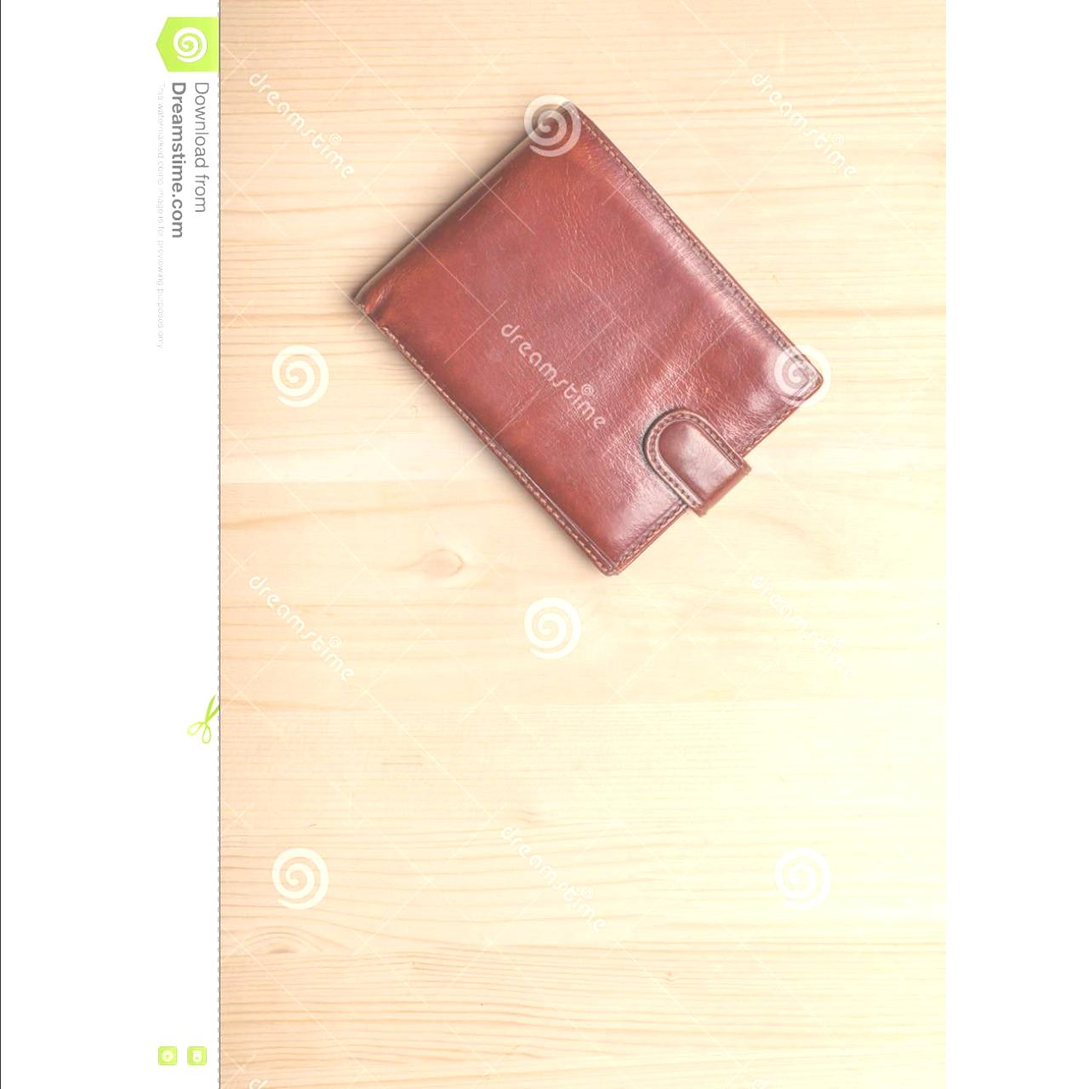wallet: (338, 66, 867, 626)
